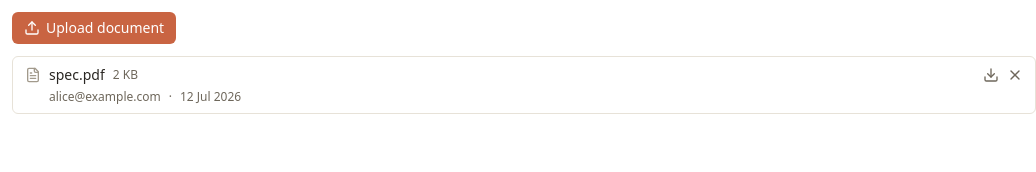
Test: ProjectDocuments › removes a document
This screenshot has width=1036, height=172.
Click the button named "Remove spec.pdf" at (1015, 75), box [1007,67,1023,83]
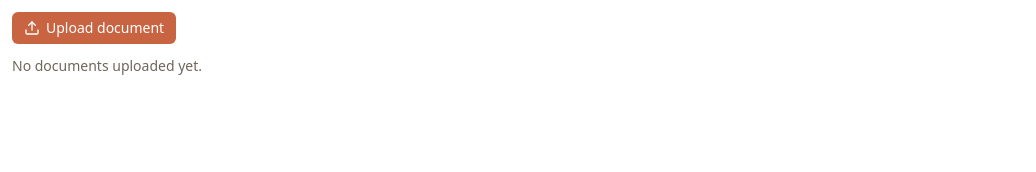
Expected: the link "spec.pdf" is gone
